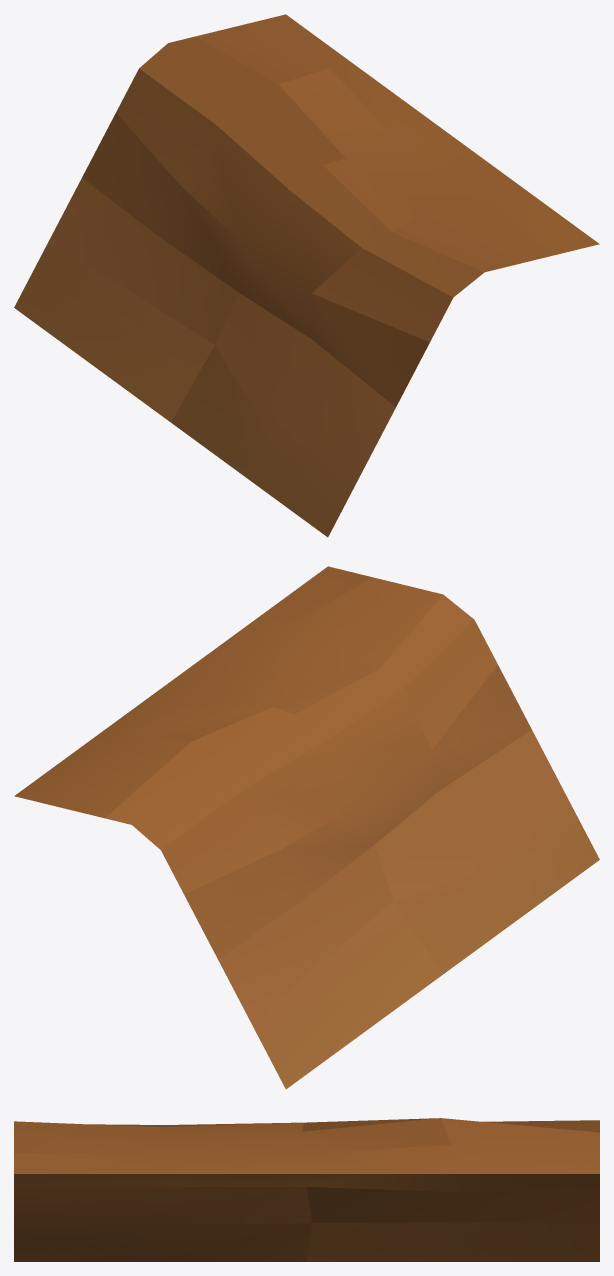
File: cGround_C_Side_2__.obj
The picture shows the model from 3 angles, top to bottom: view 1: azimuth 30°, elevation 25°; view 2: azimuth 150°, elevation 25°; view 3: azimuth 270°, elevation 25°; orthographic projection. The views are drawn at different scales.
Visible parts, largest first — view 1: cGround_C_Side_2__; view 2: cGround_C_Side_2__; view 3: cGround_C_Side_2__.
Boxes of the visible parts, x1,y1,x2,y2 form: cGround_C_Side_2__: (14,14,599,537); cGround_C_Side_2__: (14,566,599,1089); cGround_C_Side_2__: (14,1118,599,1261).
Size of the model in its own units: 4 by 3.4 by 8.
